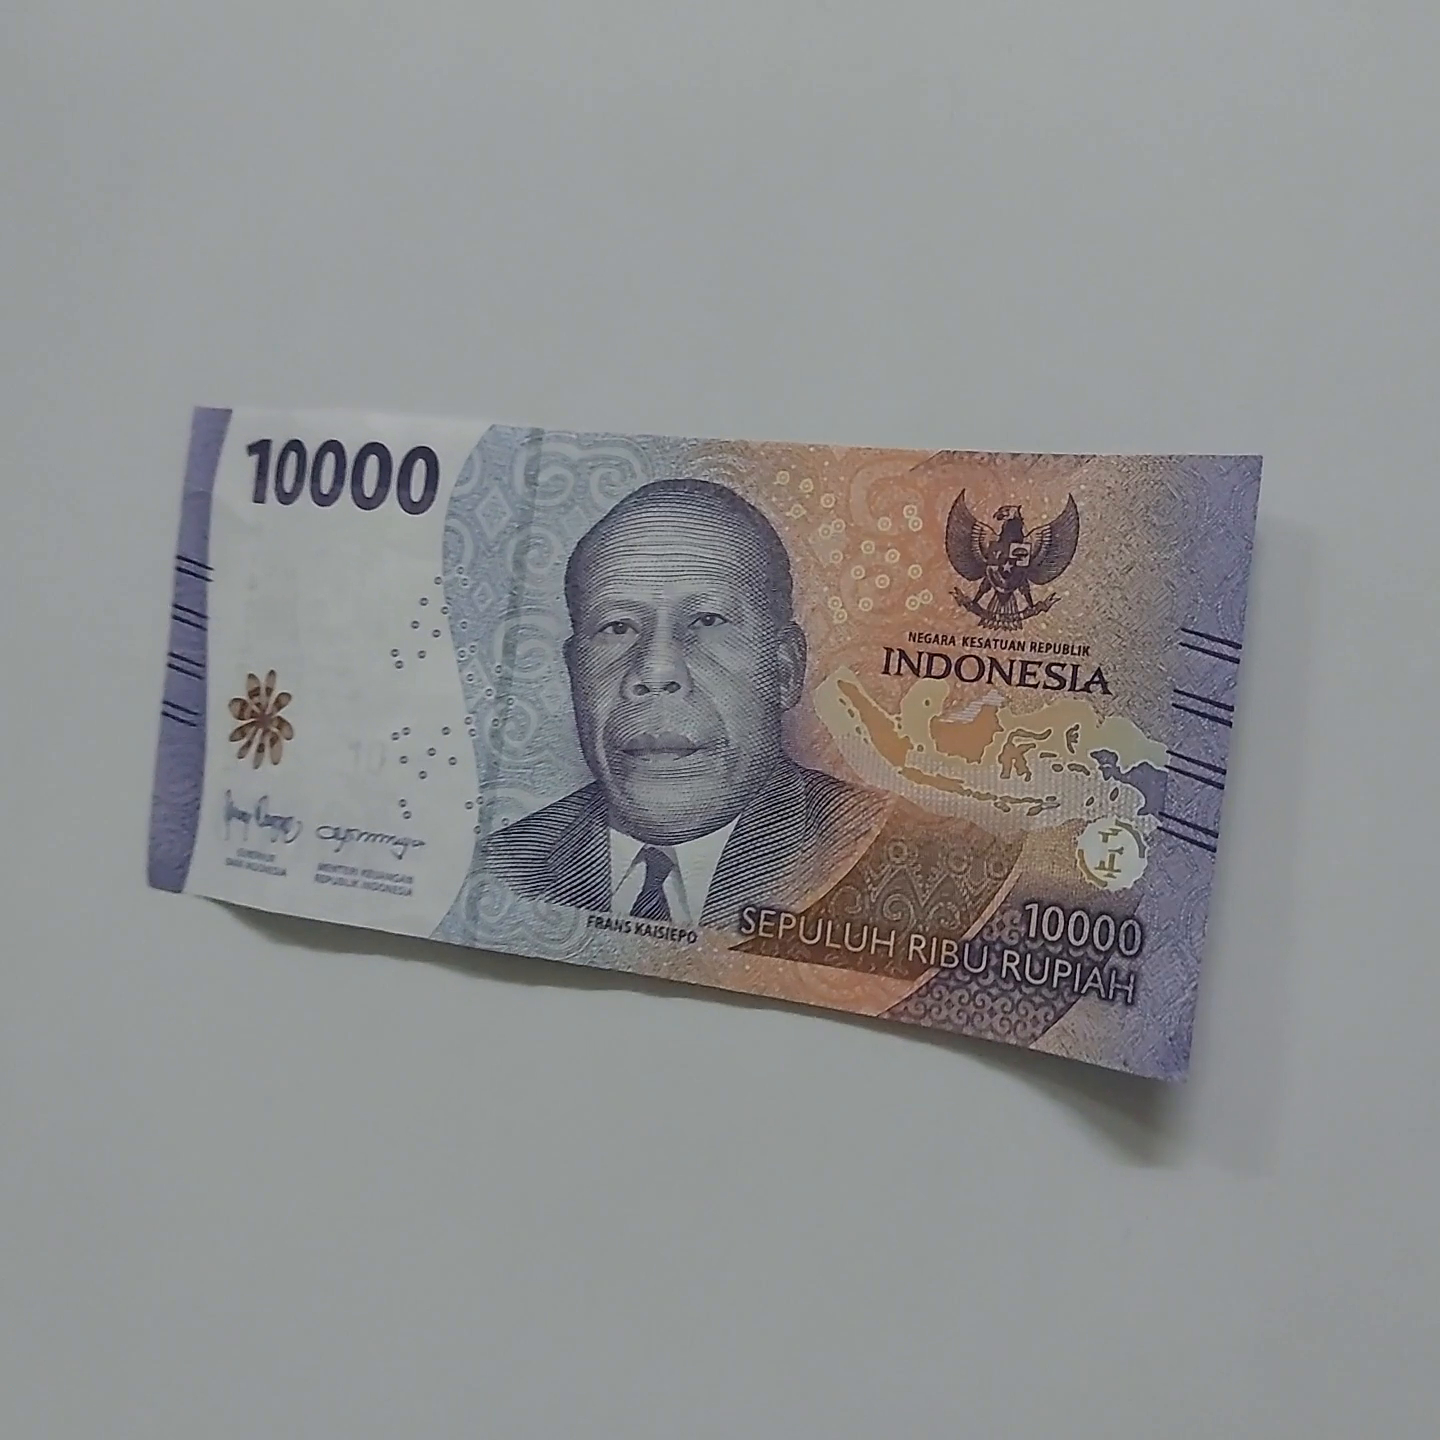10k: (145, 365, 1267, 1087)
